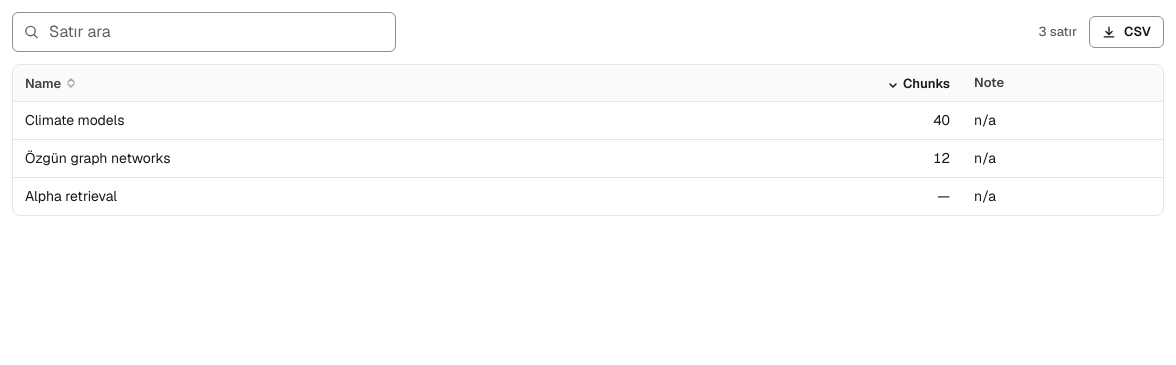
Scenario: DataTable › speaks Turkish
Check: the table named "Satırlar, Chunks sütununa göre azalan sıralı" is shown, box [12,64,1164,216]
Check: the message reads "3 satır", box [1038,23,1077,40]
Step 1. Type "qq" into the search field labelled "Satır ara" → coordinates (204, 32), box [12,12,396,52]
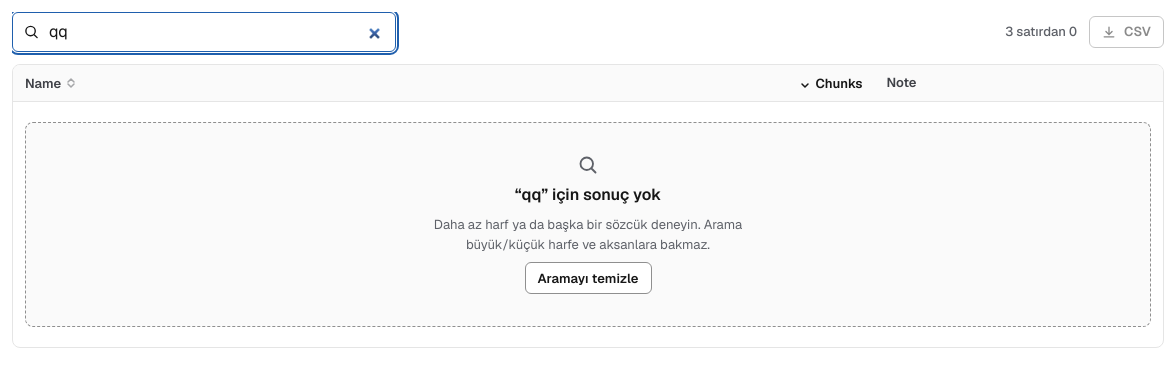
Check: the text "“qq” için sonuç yok" is shown, box [515,183,661,207]
Check: the button "Aramayı temizle" is shown, box [524,262,652,294]
